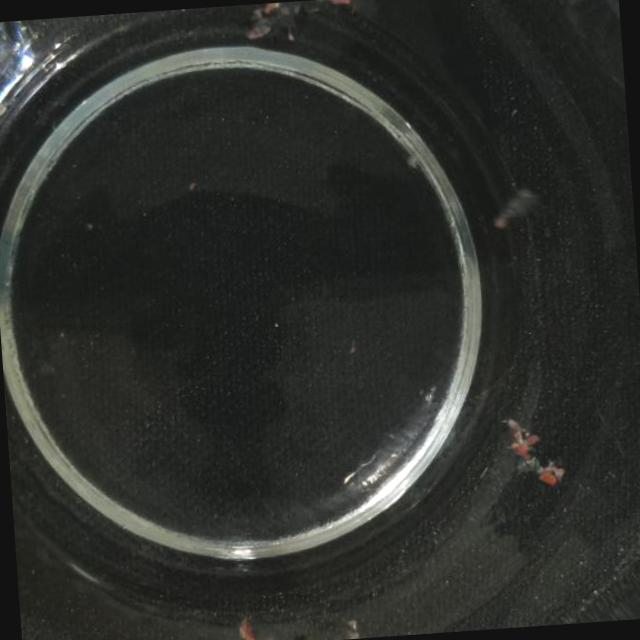fiber: (245, 0, 352, 49), (503, 414, 567, 492), (489, 184, 538, 230), (233, 613, 260, 640), (342, 614, 365, 639)
